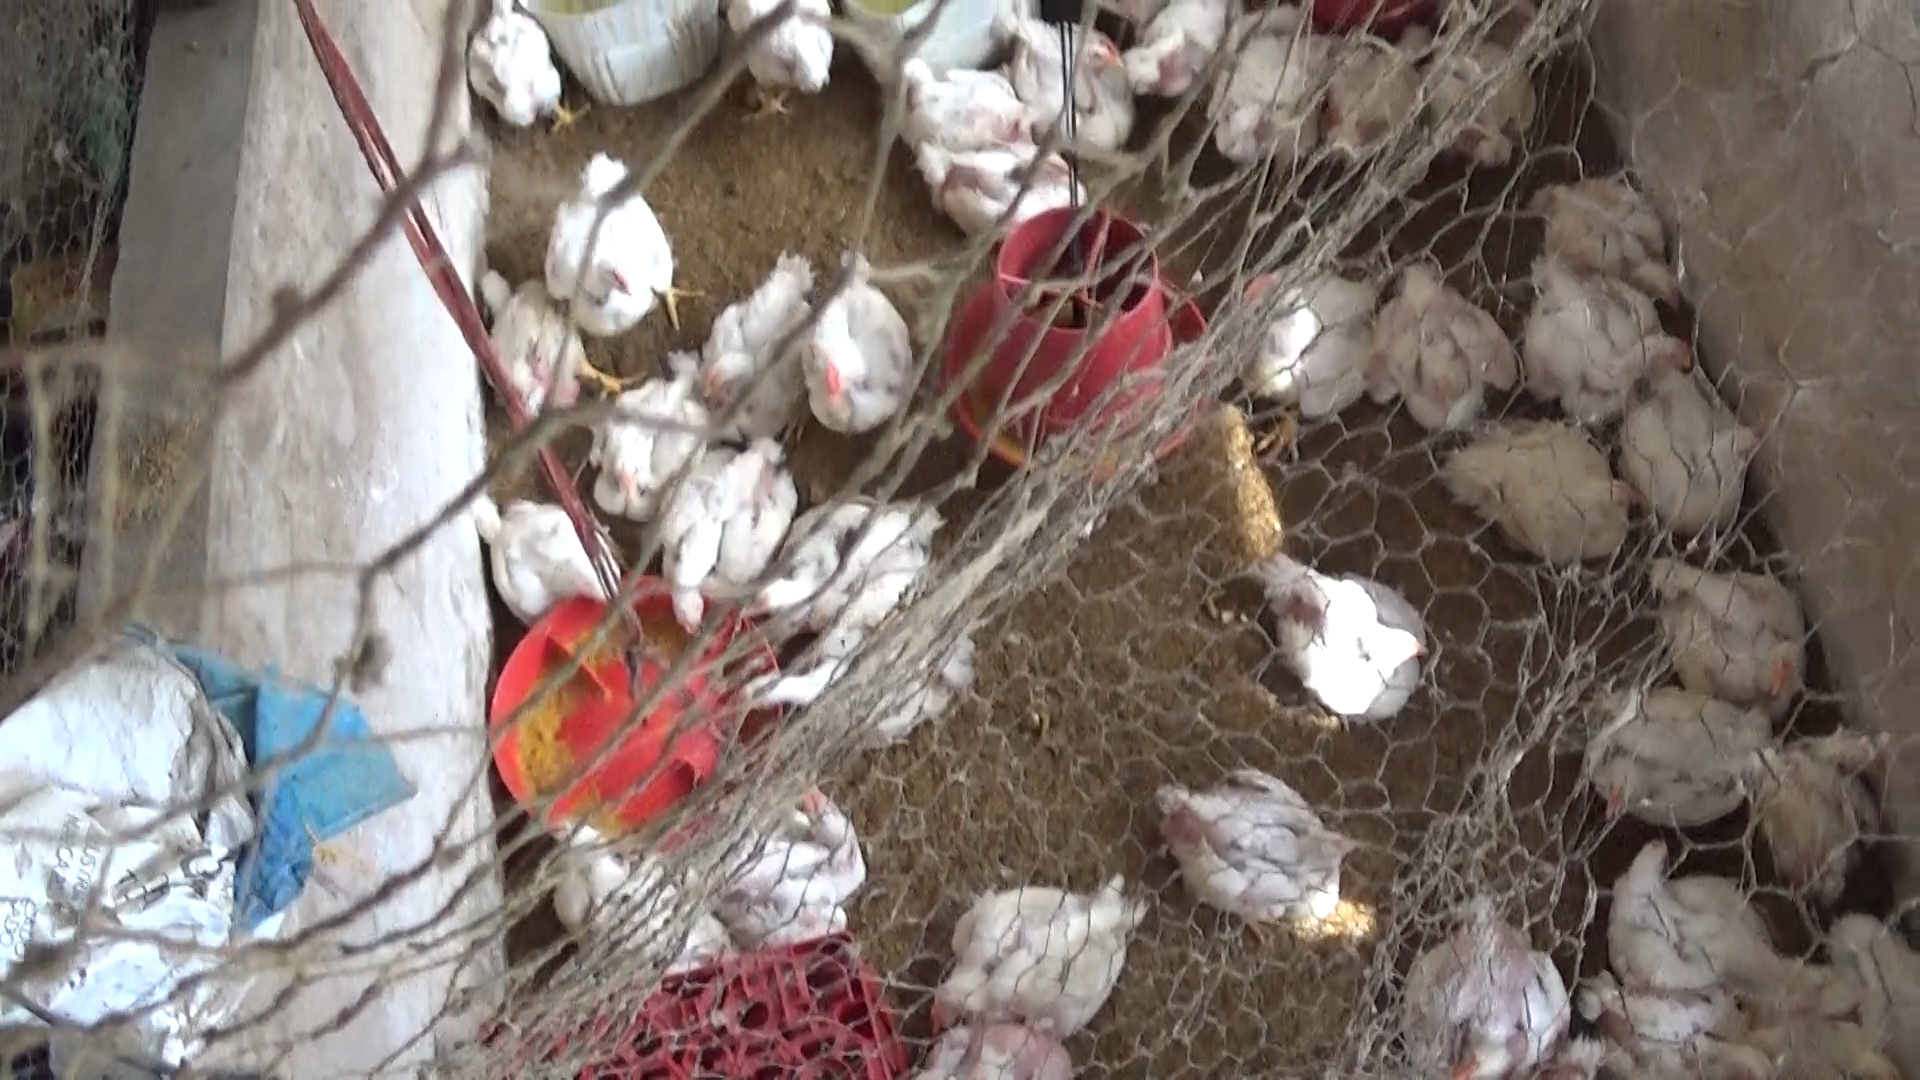Pollos: (924, 868, 1149, 1038), (1149, 752, 1366, 923), (1640, 542, 1812, 731), (1255, 545, 1437, 721), (1433, 409, 1636, 567), (533, 803, 723, 971), (732, 491, 951, 632), (1567, 680, 1762, 839), (1241, 257, 1385, 468), (650, 422, 789, 640), (1739, 723, 1888, 902), (713, 778, 895, 923), (1516, 257, 1695, 404), (545, 148, 682, 327), (915, 123, 1114, 239), (1629, 386, 1766, 551), (1311, 12, 1451, 171), (1382, 264, 1515, 429), (1604, 808, 1730, 978), (597, 338, 707, 517), (1538, 164, 1680, 301), (702, 251, 822, 404), (469, 492, 621, 612), (1212, 24, 1323, 179), (806, 266, 915, 422), (1007, 11, 1130, 148), (887, 53, 1029, 166), (1437, 32, 1549, 164), (725, 0, 840, 123), (487, 272, 585, 411), (471, 0, 566, 137)
